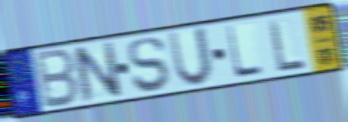B: (34, 46, 81, 111)
L: (266, 16, 308, 75), (224, 23, 266, 80)
N: (70, 39, 125, 106)
S: (126, 35, 171, 96)
U: (166, 25, 215, 89)
